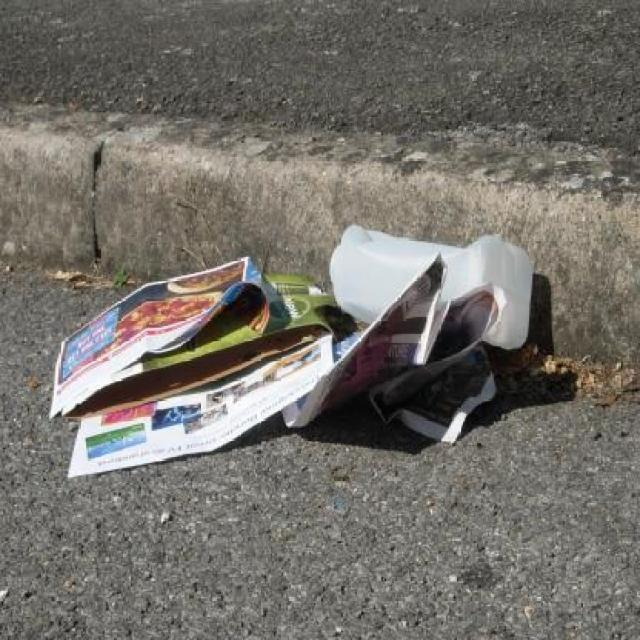garbage: (68, 288, 489, 459), (339, 205, 519, 467)
